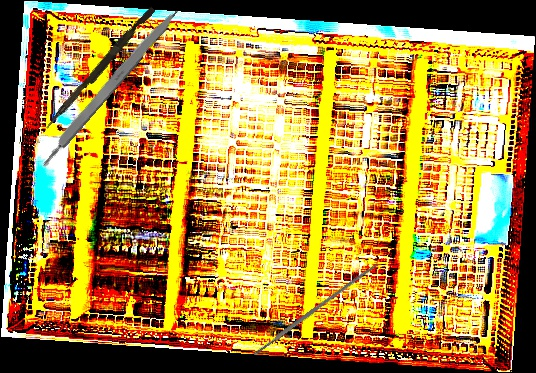Pusher: (44, 3, 156, 134)
Scalpel Handle: (35, 4, 182, 170), (251, 261, 380, 357)
